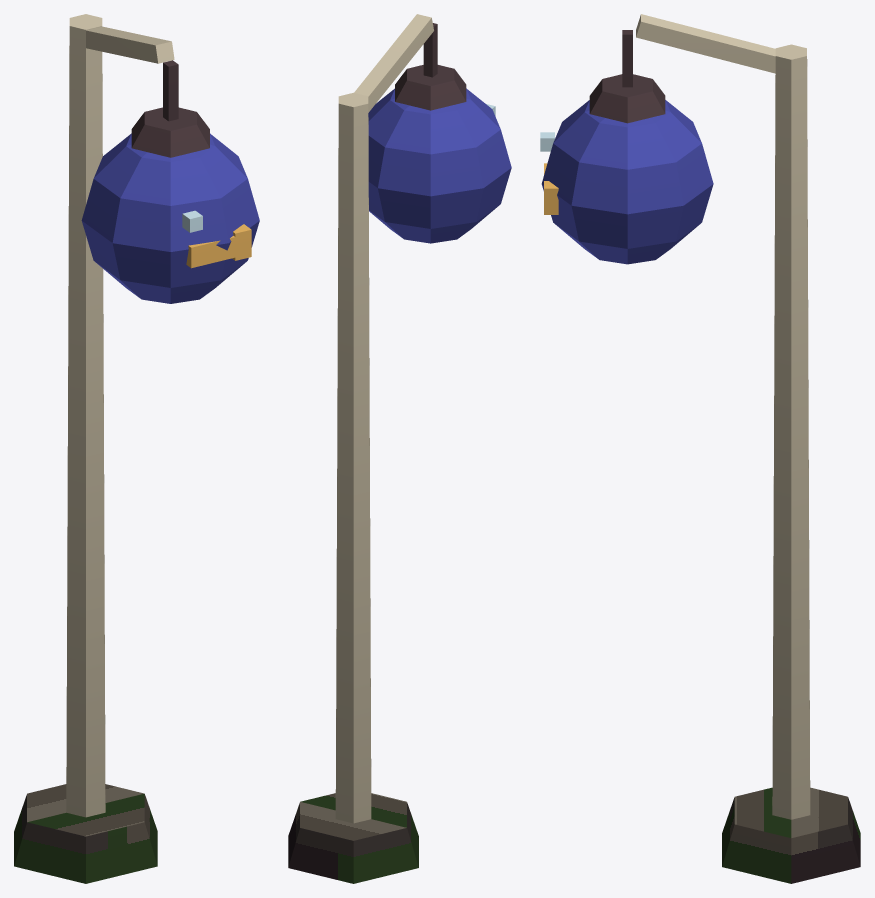
Rendered from orb_lantern.glb.
3 views of the same model, side by side, from view 1: azimuth 30°, elevation 25°; view 2: azimuth 150°, elevation 25°; view 3: azimuth 270°, elevation 25° (orthographic). The views are drawn at different scales.
Parts seen in each view (by area): view 1: orb_lantern; view 2: orb_lantern; view 3: orb_lantern.
Part boxes in pixels (bbox=[...]): orb_lantern: bbox=[14, 14, 259, 883]; orb_lantern: bbox=[288, 14, 511, 883]; orb_lantern: bbox=[540, 14, 860, 883].
Bounding box in the file's own units: 0.4655 × 2.52 × 0.8805.
Materials: 3 (1 with a texture image).
